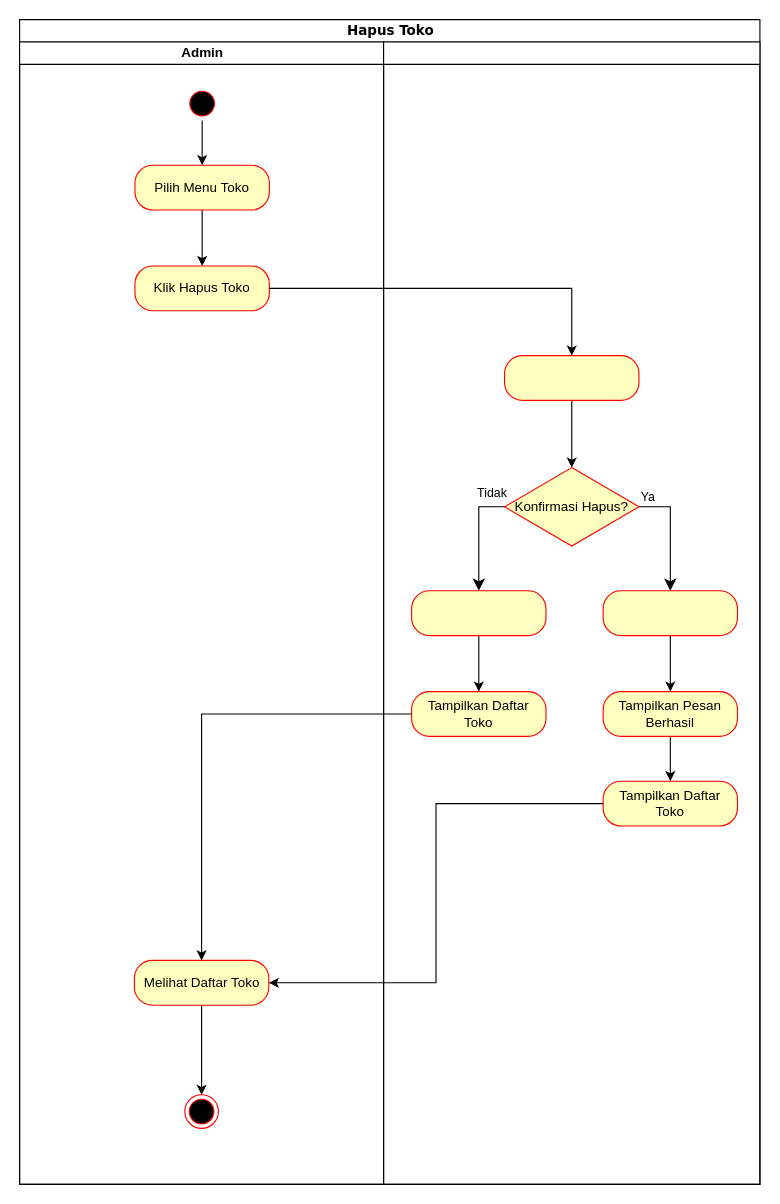
Image size: 780x1204. Some labels were removed from this diagram. Each missing label, with the box of its shape:
Batalkan Hapus: (410, 590, 546, 636)
Hapus Data Toko: (602, 590, 738, 636)
Menampilkan Konfirmasi: (503, 354, 639, 400)
System: (382, 41, 760, 1184)
